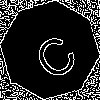C: (25, 25, 82, 83)
